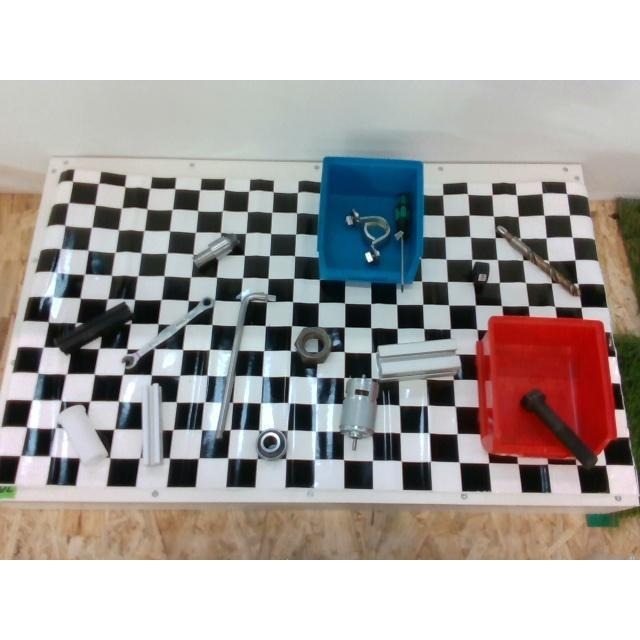AllenKey: (217, 291, 276, 437)
Axis2: (192, 234, 240, 270)
Bearing2: (256, 428, 288, 460)
Drill: (496, 224, 580, 296)
F20_20_B: (56, 302, 132, 353)
F20_20_G: (142, 382, 162, 466)
Housing: (345, 209, 391, 263)
M20: (472, 261, 488, 287)
M20_100: (521, 388, 597, 468)
M30: (292, 328, 332, 364)
Motor2: (339, 378, 379, 438)
S40_40_G: (372, 340, 460, 380)
Screwdriver: (394, 194, 410, 290)
Spacer: (57, 405, 107, 463)
Wrench: (122, 296, 214, 372)
container_box_blue: (318, 156, 422, 284)
container_box_red: (476, 316, 616, 464)
